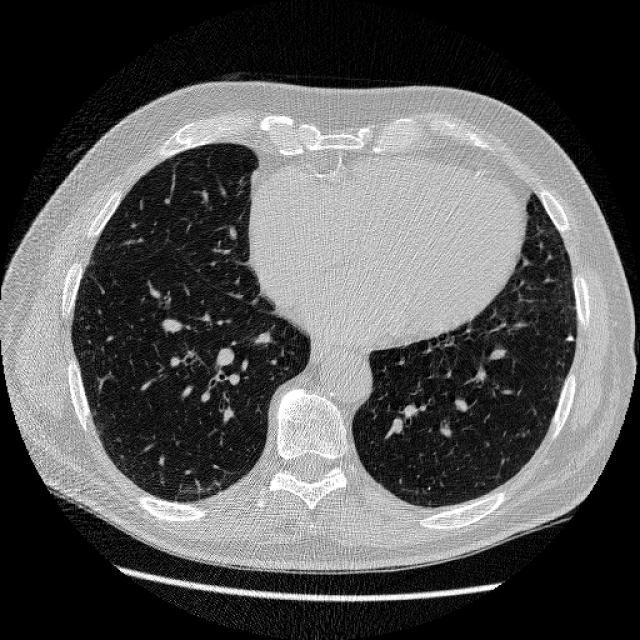nodule: (562, 330, 576, 345)
